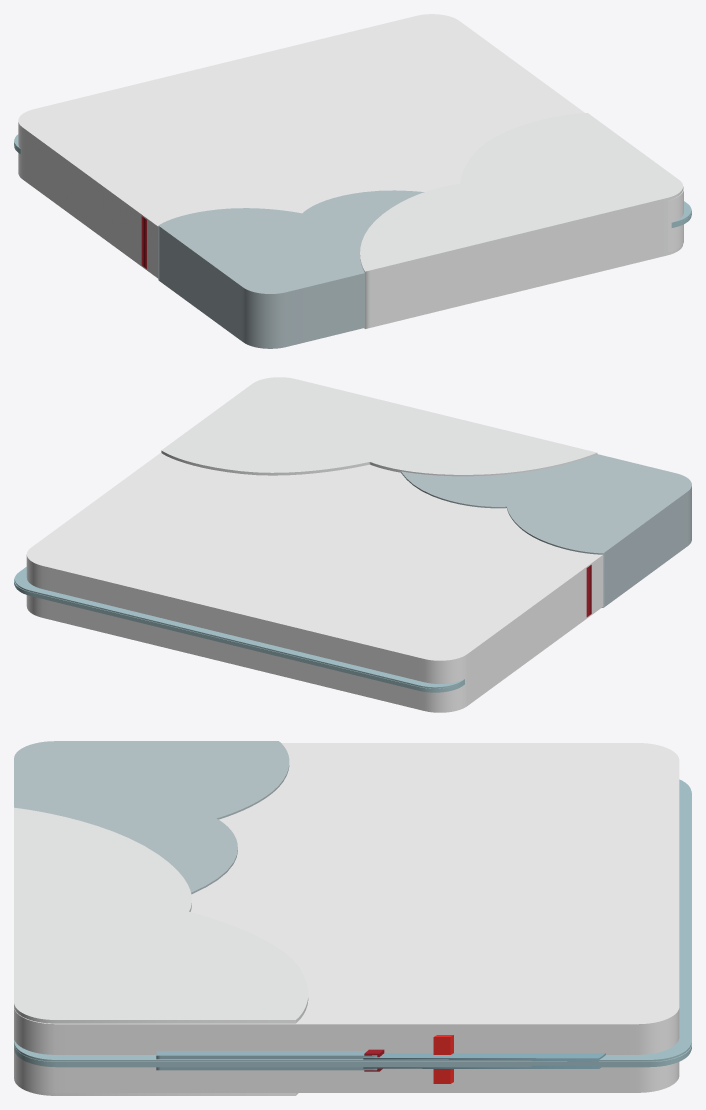
File: emoji_u1f301.glb
3 views of the same model, one above another, from view 1: azimuth 30°, elevation 25°; view 2: azimuth 150°, elevation 25°; view 3: azimuth 270°, elevation 25° (orthographic). The views are drawn at different scales.
Parts seen in each view (by area): view 1: emoji_u1f301; view 2: emoji_u1f301; view 3: emoji_u1f301.
Boxes of the visible parts, <box> form: emoji_u1f301: <box>14,14,691,348</box>; emoji_u1f301: <box>14,377,691,712</box>; emoji_u1f301: <box>14,741,691,1095</box>.
Bounding box in the file's own units: 0.034 × 0.0042 × 0.034.
